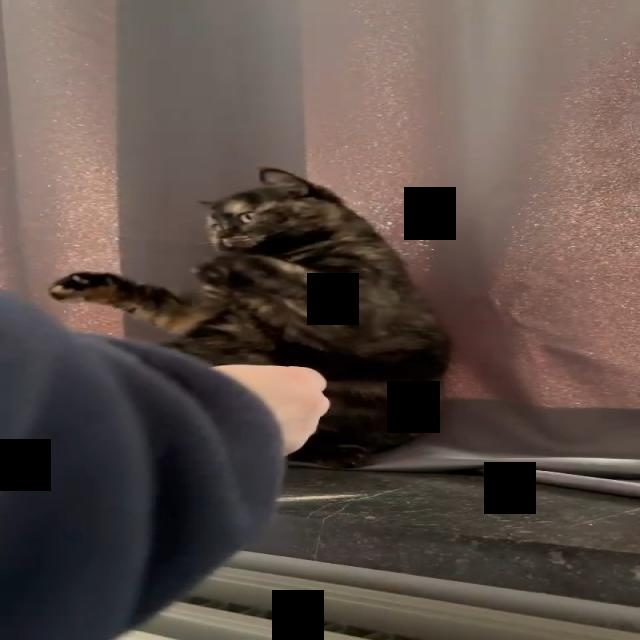authorized: (48, 166, 453, 469)
